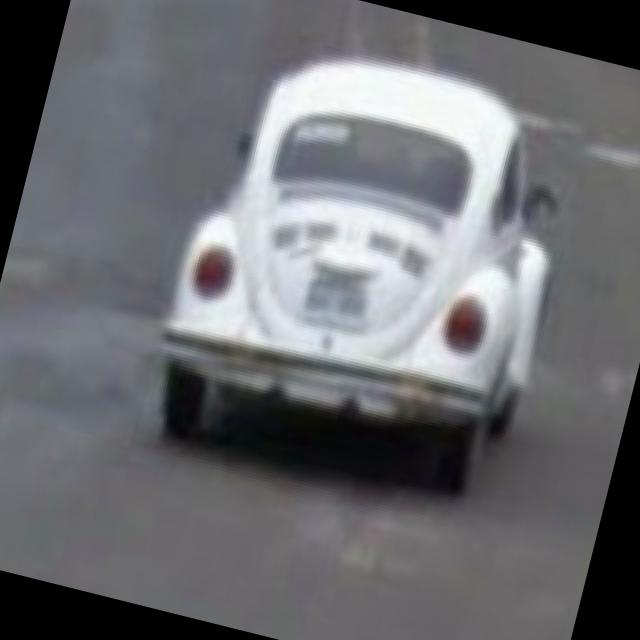car: (143, 32, 595, 518)
